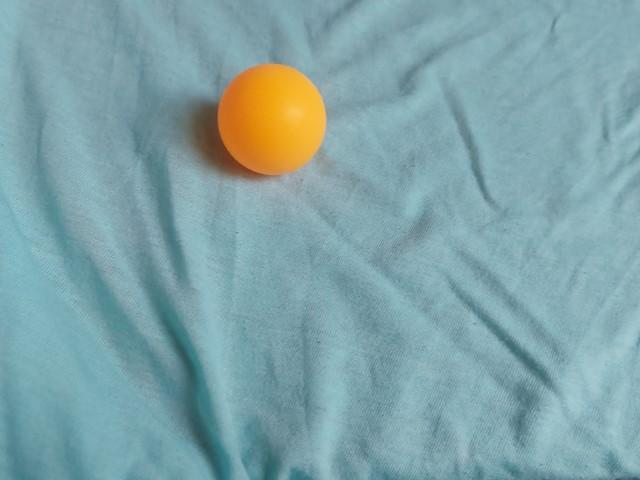oball: (210, 60, 335, 182)
